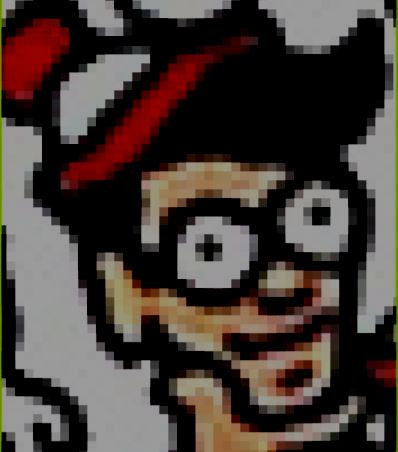waldos: (4, 4, 386, 449)
